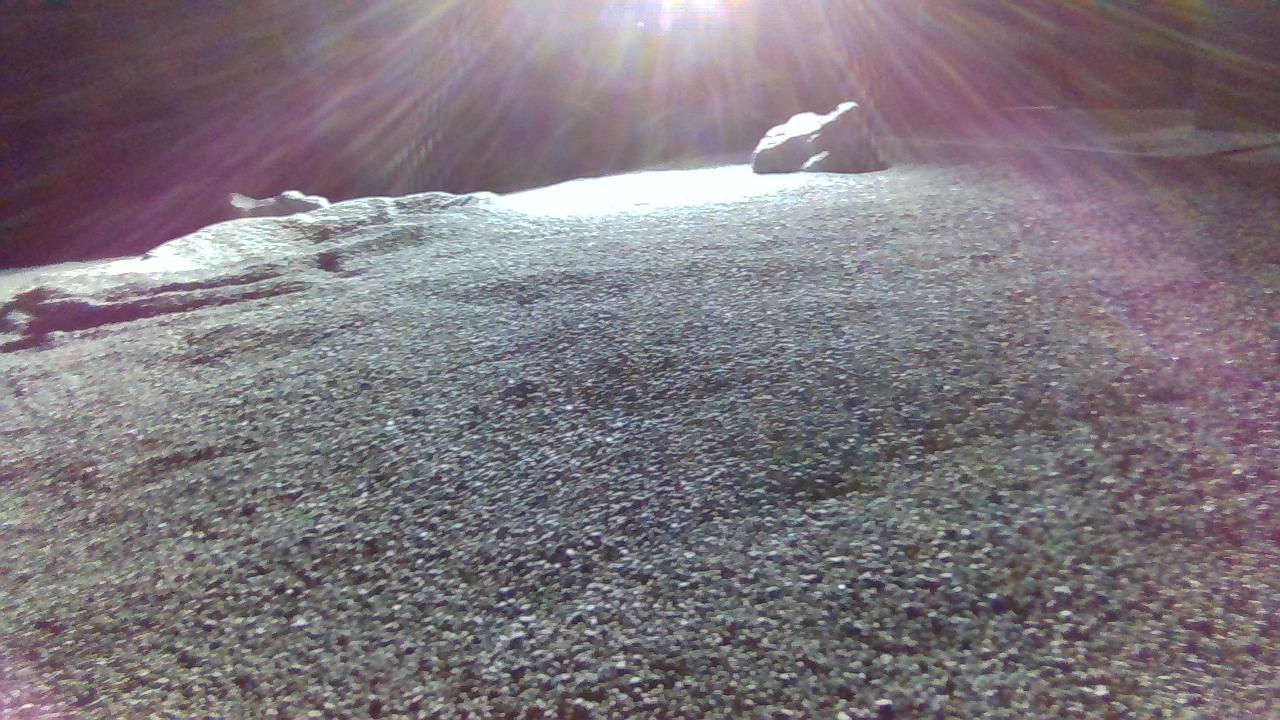rock: (752, 100, 888, 172)
